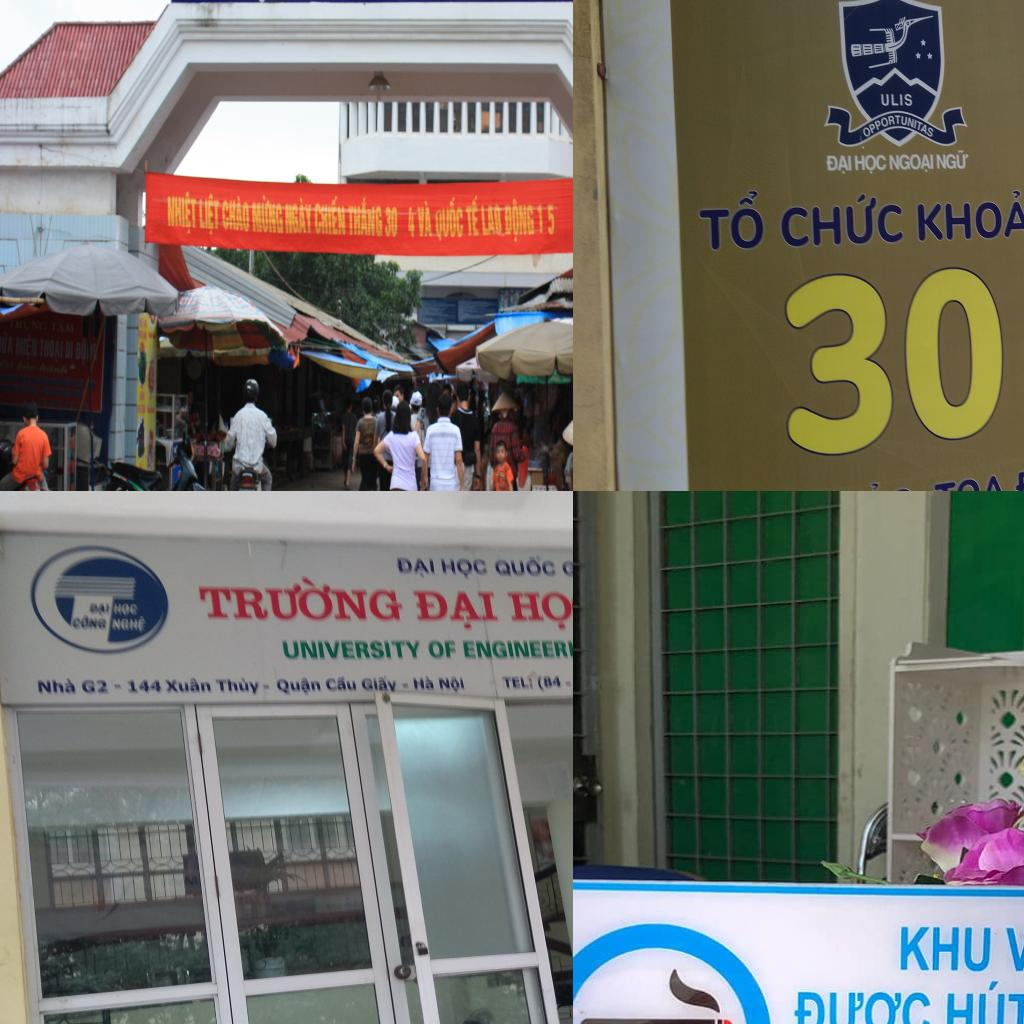text: (776, 260, 1012, 463), (196, 569, 405, 626), (779, 190, 905, 252), (913, 185, 1024, 245), (793, 987, 933, 1024), (695, 186, 769, 254), (899, 926, 993, 972), (413, 587, 503, 633), (280, 636, 422, 664), (945, 979, 1024, 1024), (507, 587, 573, 633), (458, 636, 573, 660), (805, 471, 927, 491), (858, 112, 937, 140), (164, 187, 198, 238), (490, 554, 558, 579), (504, 198, 536, 246), (346, 197, 383, 238), (433, 195, 464, 243), (932, 473, 1013, 491), (250, 194, 284, 236), (312, 194, 346, 236), (440, 554, 492, 580), (282, 195, 312, 238), (1003, 925, 1024, 985), (197, 190, 222, 238), (220, 194, 250, 234), (412, 673, 472, 693), (393, 551, 437, 578), (274, 676, 324, 696), (888, 153, 934, 174), (480, 203, 504, 240), (164, 677, 212, 695), (413, 197, 433, 240), (35, 676, 77, 696), (38, 336, 65, 366), (216, 676, 260, 694), (464, 192, 480, 239), (935, 149, 969, 171), (14, 332, 38, 362), (501, 673, 538, 692), (357, 675, 398, 692), (854, 153, 887, 174), (111, 616, 149, 634), (125, 677, 163, 695), (429, 638, 458, 661), (824, 154, 854, 175), (324, 676, 359, 694), (70, 613, 111, 628), (383, 203, 398, 240), (80, 677, 110, 695), (539, 674, 565, 692), (880, 93, 913, 107), (111, 601, 141, 616), (74, 337, 88, 367), (50, 319, 76, 335), (87, 599, 114, 614), (534, 198, 544, 238), (0, 329, 14, 357), (546, 200, 555, 238), (559, 555, 573, 579), (407, 204, 416, 241), (65, 338, 74, 362), (240, 489, 253, 491)
